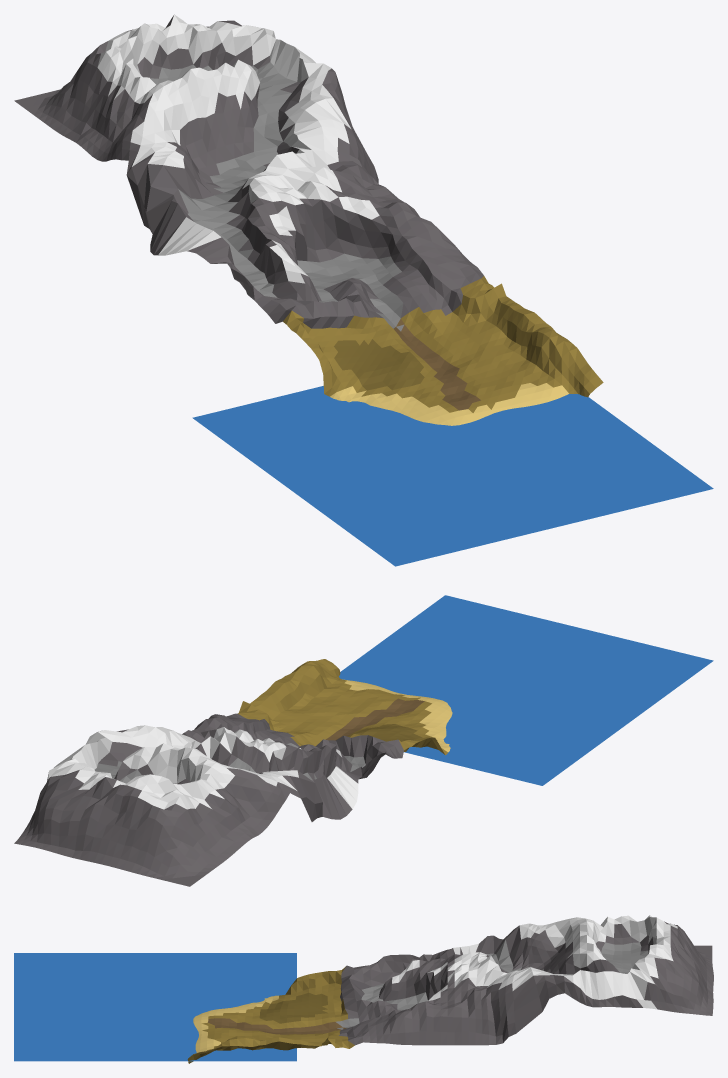
Rendered from NuevoMapaAgua.fbx.
3 views of the same model, one above another, from view 1: azimuth 30°, elevation 25°; view 2: azimuth 150°, elevation 25°; view 3: azimuth 270°, elevation 25° (orthographic). The views are drawn at different scales.
Parts seen in each view (by area): view 1: Landscape; view 2: Landscape; view 3: Landscape.
Boxes of the visible parts, x1,y1,x2,y2 form: Landscape: [14, 14, 713, 566]; Landscape: [14, 595, 713, 886]; Landscape: [14, 915, 713, 1063].
Size of the model in its own units: 34057 by 15615 by 83586.
